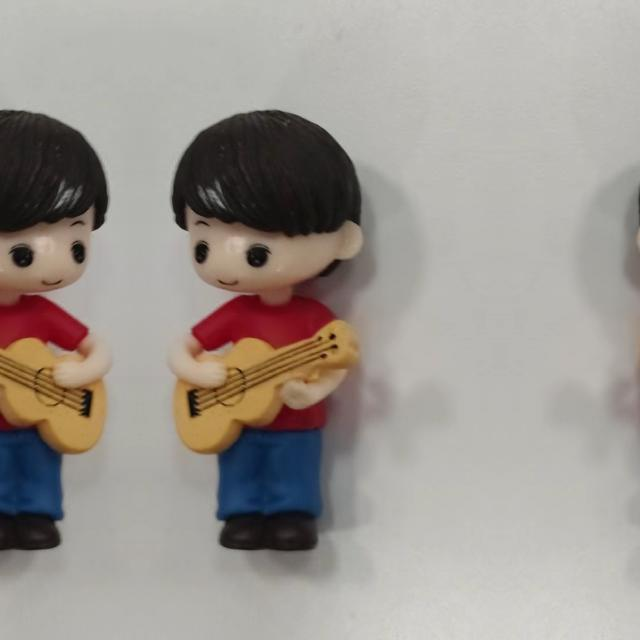man cloth: (190, 296, 350, 434), (0, 296, 90, 434)
man head: (162, 105, 368, 299), (0, 105, 117, 299), (632, 105, 640, 299)
trousers: (213, 430, 343, 568), (0, 430, 67, 568)
